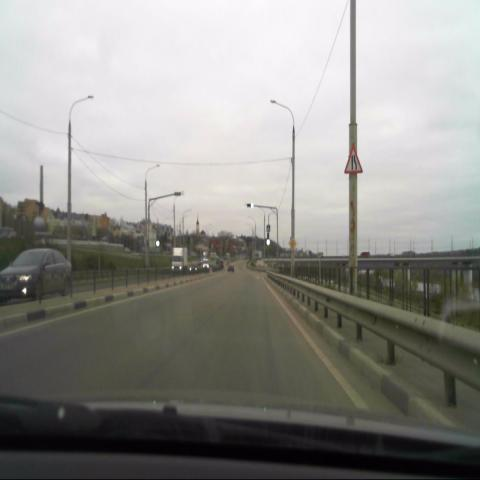1_20_2: (343, 145, 364, 175)
